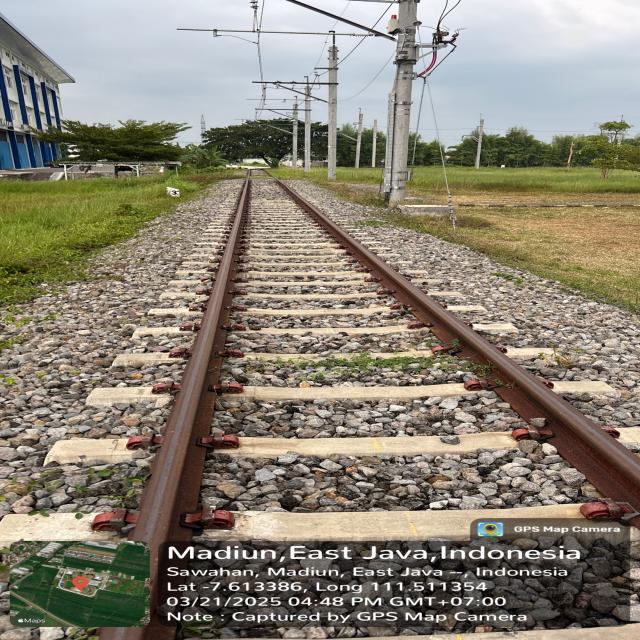rail-detection: (276, 180, 640, 505), (100, 180, 250, 640)
